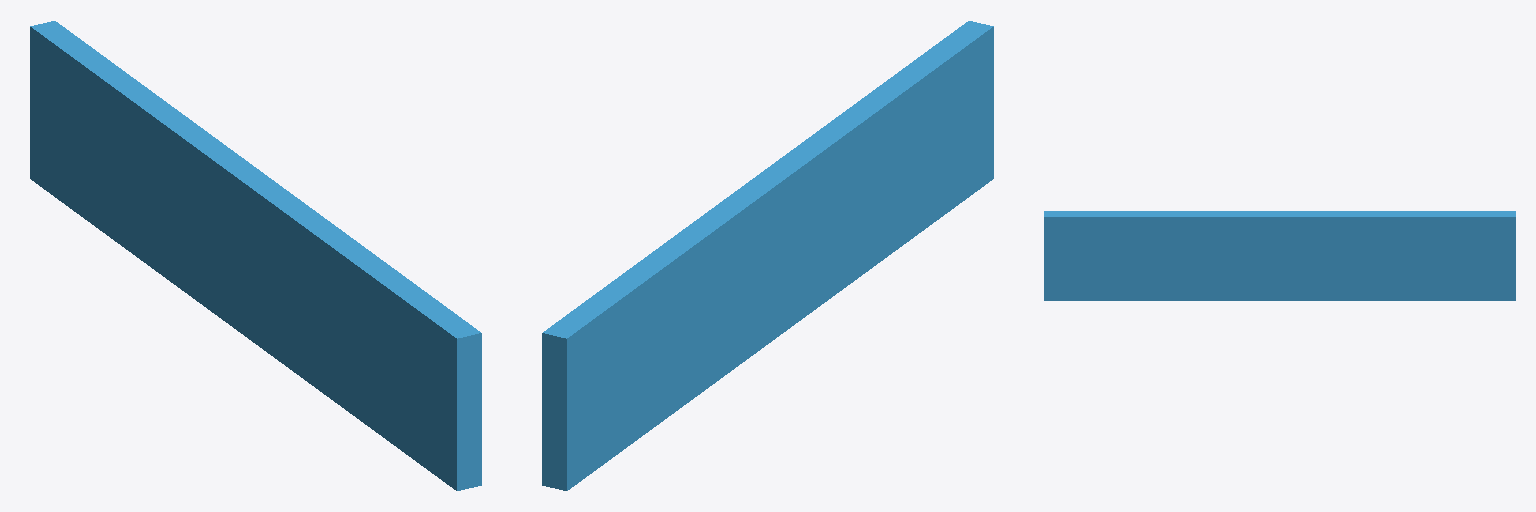
The robot description file, URDF, robot "box_71":
<?xml version="1.0" encoding="utf-8"?>    
    
    <robot name="box_71">
        <link name="box_71">    
            <fem>
                <origin rpy="0.0 0.0 0.0" xyz="0 0 0" />
                <density value="100" />
                <youngs value="964"/>
                <poissons value="0.3" />
                <damping value="0.0" />
                <attachDistance value="0.01" />
                <tetmesh filename="[local-path]/sim_data/Custom/Custom_mesh/multi_box_1kPa/box_71.tet" />
                <scale value="0.5"/>
            </fem>
        </link>

        <link name="fix_frame">
            <visual>
                <origin xyz="-10.1 0.0 0.0"/>              
                <geometry>
                    <box size="0.005 0.15 0.029608346580630003"/>
                </geometry>
            </visual>
            <collision>
                <origin xyz="-0.1 0.0 0.0"/>              
                <geometry>
                    <box size="0.005 0.15 0.029608346580630003"/>
                </geometry>
            </collision>
            <inertial>
                <mass value="500000"/>
                <inertia ixx="0.05" ixy="0.0" ixz="0.0" iyy="0.05" iyz="0.0" izz="0.05"/>
            </inertial>
        </link>
        
        <joint name = "attach" type = "fixed">
            <origin xyz = "0.0 0.0 0.0" rpy = "0 0 0"/>
            <parent link ="box_71"/>
            <child link = "fix_frame"/>
        </joint>  




    </robot>
    

--- Facts derived from the render (not from the file) ---
Views: 3 orthographic renders of the robot side by side, from view 1: azimuth 30°, elevation 25°; view 2: azimuth 150°, elevation 25°; view 3: azimuth 270°, elevation 25°.
Model box_71 with 2 links and 1 joints (1 fixed), rooted at box_71, posed all joints at 0.
Visible links, largest first — view 1: fix_frame; view 2: fix_frame; view 3: fix_frame.
Boxes of the visible links, x1=… form: fix_frame: x1=30, y1=21, x2=481, y2=490; fix_frame: x1=542, y1=21, x2=993, y2=490; fix_frame: x1=1044, y1=211, x2=1515, y2=300.
Bounding box of the posed robot: 0.005 × 0.15 × 0.0296 m (x, y, z).
Geometry: primitives only (box / cylinder / sphere), no mesh files.